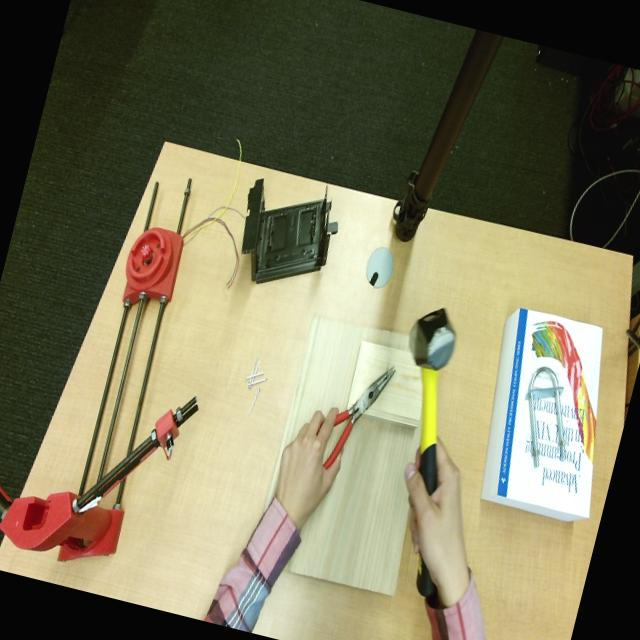hammer: (409, 309, 455, 494), (416, 557, 436, 597)
pliers: (323, 368, 395, 468)
